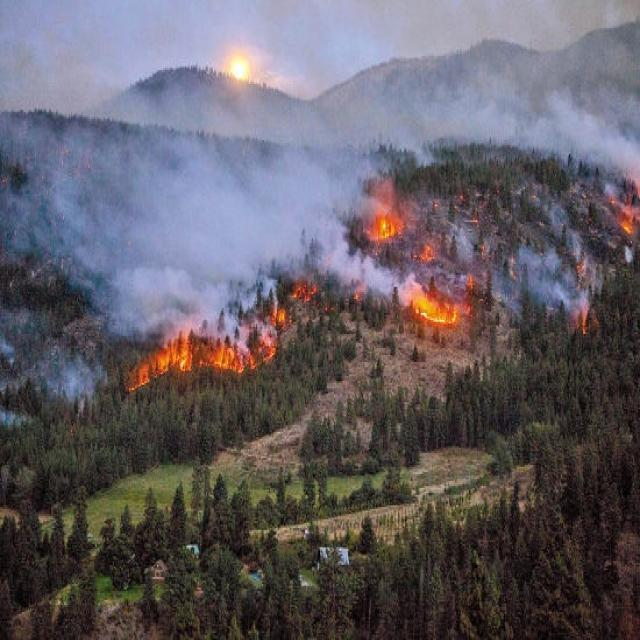Fire: (124, 279, 324, 392), (410, 292, 463, 325), (369, 213, 407, 243), (418, 243, 436, 264), (622, 224, 634, 236)
Smoke: (1, 56, 640, 439)
